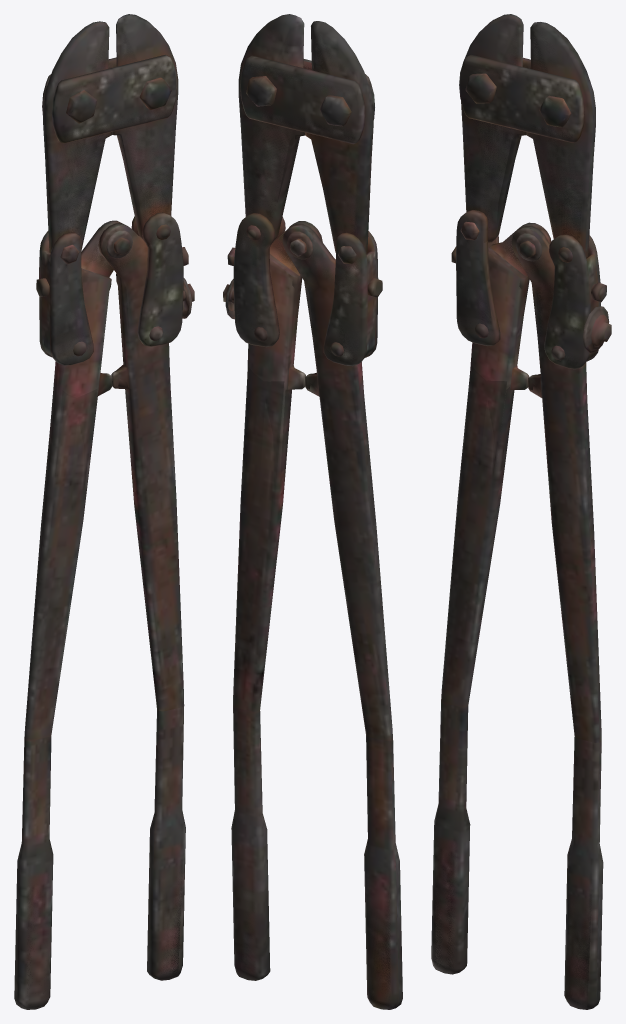
The model's file is ph-bolt_cutters_01.glb.
3 renders of one model, left to right at view 1: azimuth 30°, elevation 25°; view 2: azimuth 150°, elevation 25°; view 3: azimuth 330°, elevation 25°, orthographic.
Visible parts, largest first — view 1: bolt_cutters_01 (×2); view 2: bolt_cutters_01 (×2); view 3: bolt_cutters_01 (×2).
Part boxes in pixels (x1,y1,x2,y2): bolt_cutters_01 (×2): [14, 14, 194, 1009]; bolt_cutters_01 (×2): [223, 14, 402, 1009]; bolt_cutters_01 (×2): [431, 14, 611, 1009].
Size of the model in its own units: 0.1224 by 0.65 by 0.0292.
1 material, 1 textured.
